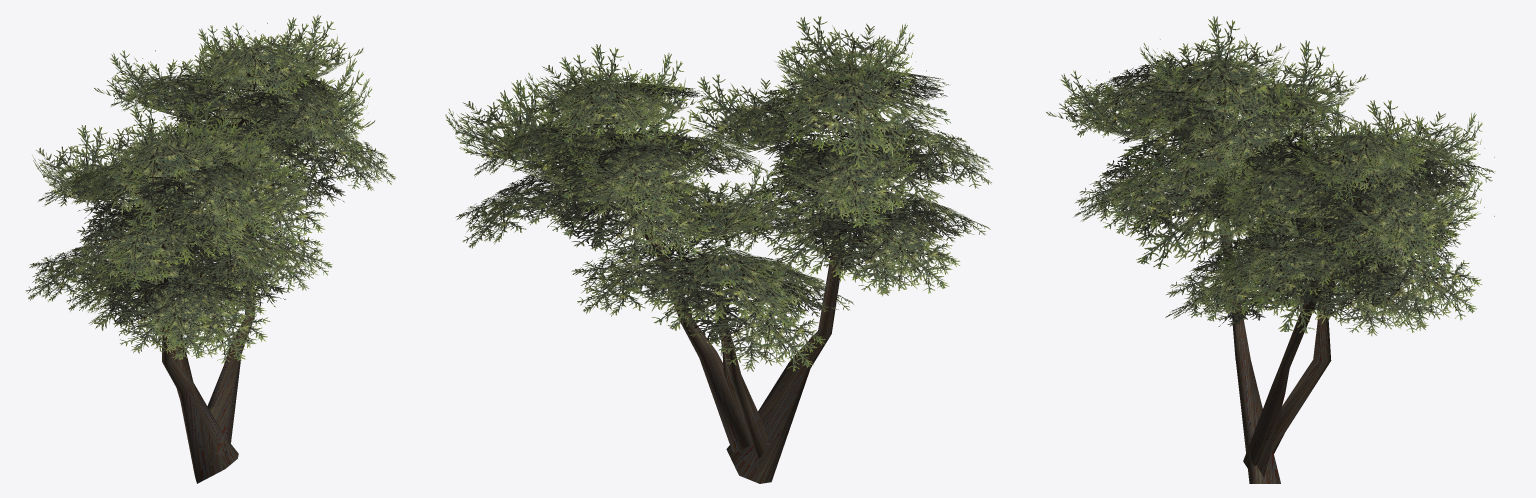
The model's file is juniper_prickly_3.glb.
The picture shows the model from 3 angles, left to right: view 1: azimuth 30°, elevation 25°; view 2: azimuth 150°, elevation 25°; view 3: azimuth 270°, elevation 25°; orthographic projection. The views are drawn at different scales.
Visible parts, largest first — view 1: juniper_prickly_3; view 2: juniper_prickly_3; view 3: juniper_prickly_3.
Part boxes in pixels (bbox=[...]): juniper_prickly_3: bbox=[25, 14, 395, 483]; juniper_prickly_3: bbox=[445, 16, 992, 483]; juniper_prickly_3: bbox=[1046, 16, 1495, 483].
Bounding box in the file's own units: 13.01 × 11.22 × 11.81.
1 material, 1 textured.
